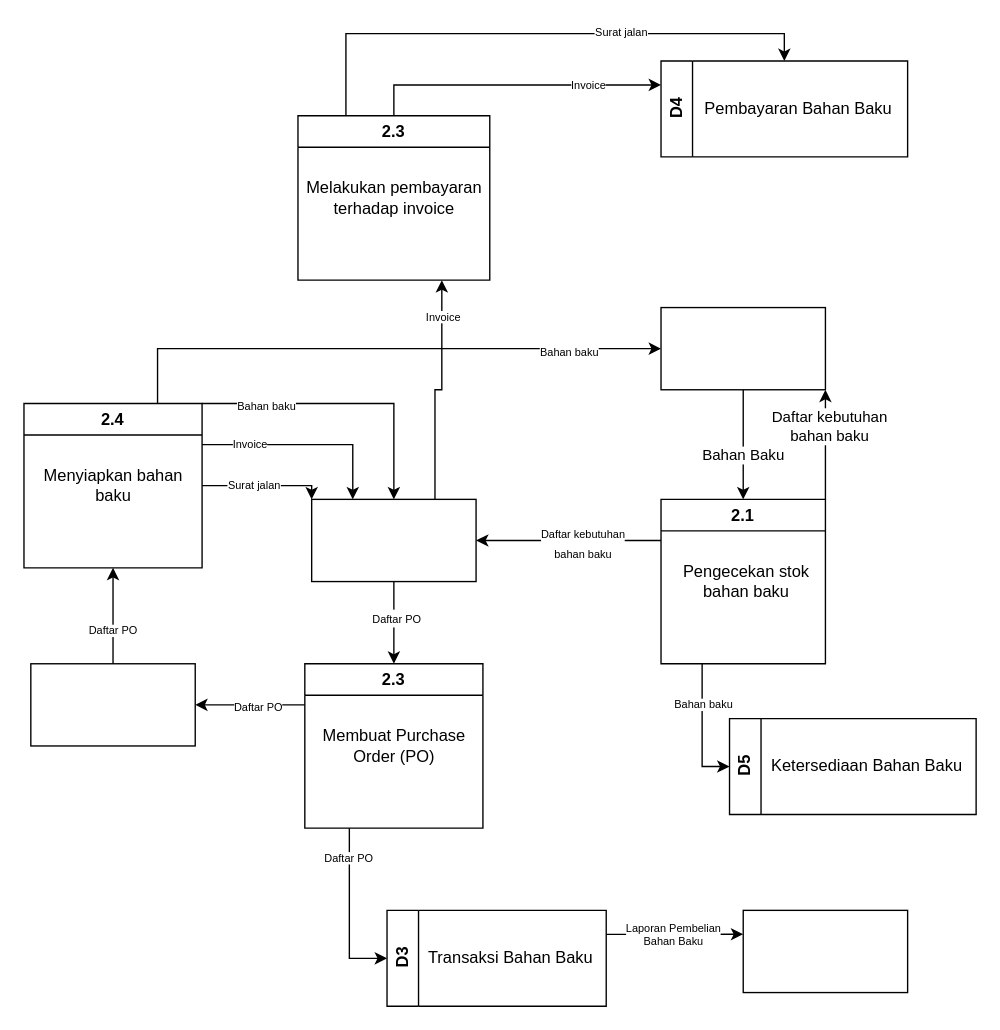
The diagram is 1000 pixels wide and 1030 high, and some of its shapes have lost their labels. Each missing label, with the centre of its shape:
Bagian Dapur: (742,348)
Bagian Pembelian: (393,540)
Manajemen Restoran: (825,951)
Supplier: (112,704)
